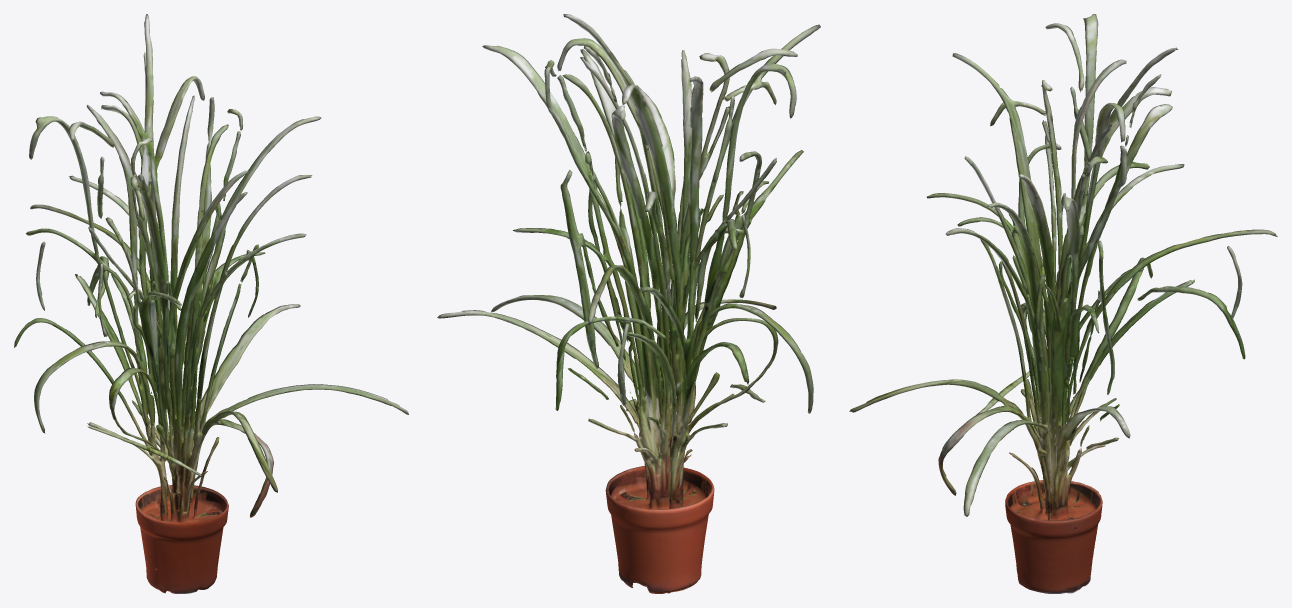
Rendered from h3-Lemongrass.glb.
3 views of the same model, side by side, from view 1: azimuth 30°, elevation 25°; view 2: azimuth 150°, elevation 25°; view 3: azimuth 270°, elevation 25° (orthographic). The views are drawn at different scales.
Size of the model in its own units: 1.32 by 2.01 by 1.43.
Materials: 1 (1 with a texture image).
